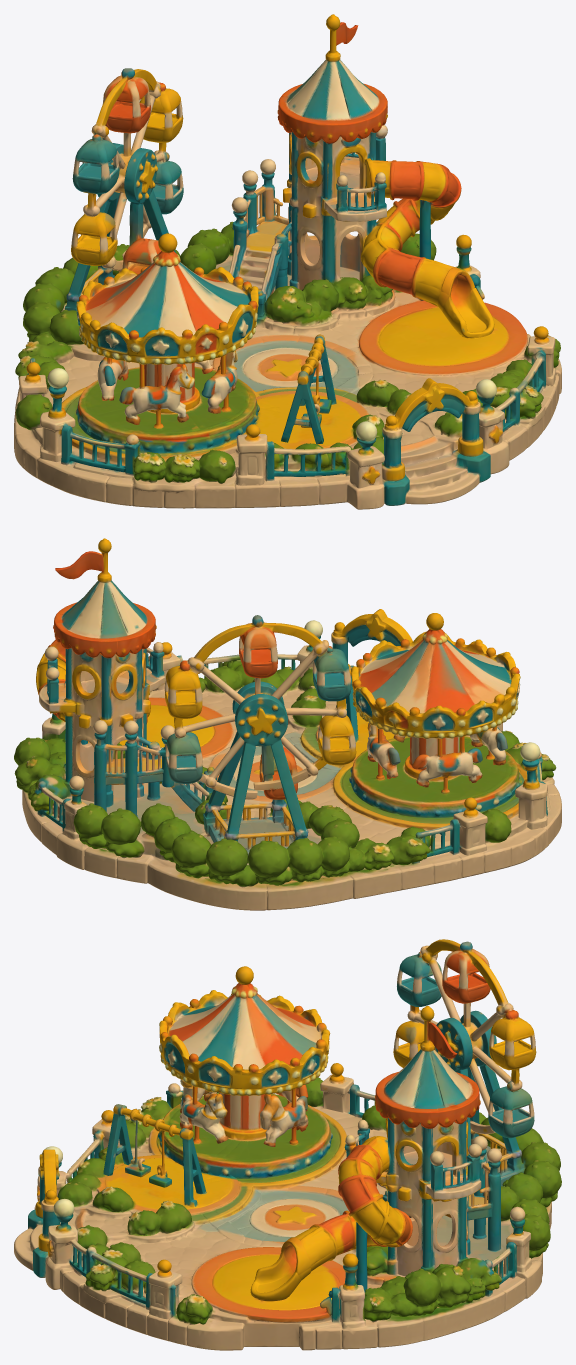
The model's file is AmusementPark.fbx.
The picture shows the model from 3 angles, top to bottom: view 1: azimuth 30°, elevation 25°; view 2: azimuth 150°, elevation 25°; view 3: azimuth 270°, elevation 25°; orthographic projection. The views are drawn at different scales.
Visible parts, largest first — view 1: tripo_node_c9729ac4-588d-4575-8196-96beb1709194; view 2: tripo_node_c9729ac4-588d-4575-8196-96beb1709194; view 3: tripo_node_c9729ac4-588d-4575-8196-96beb1709194.
Boxes of the visible parts, <box> form: tripo_node_c9729ac4-588d-4575-8196-96beb1709194: <box>14,14,561,509</box>; tripo_node_c9729ac4-588d-4575-8196-96beb1709194: <box>14,538,561,910</box>; tripo_node_c9729ac4-588d-4575-8196-96beb1709194: <box>14,939,561,1350</box>.
Bounding box in the file's own units: 98.08 × 57.41 × 97.28.
Materials: 1 (1 with a texture image).
